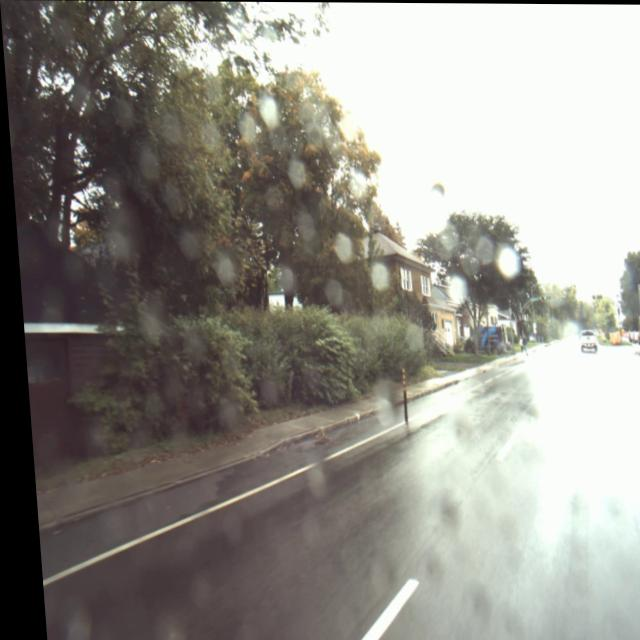car: (574, 328, 593, 354)
pedestrian: (515, 333, 523, 355)
trafficLight-Green: (538, 294, 546, 301), (588, 293, 596, 299)
